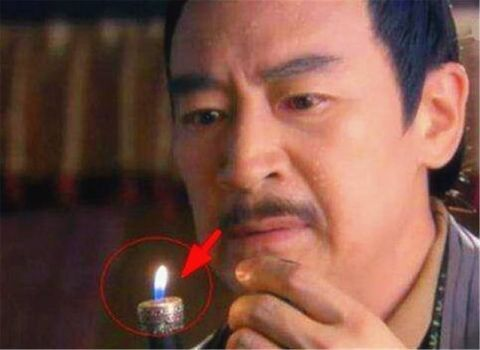fire: (134, 255, 180, 308)
